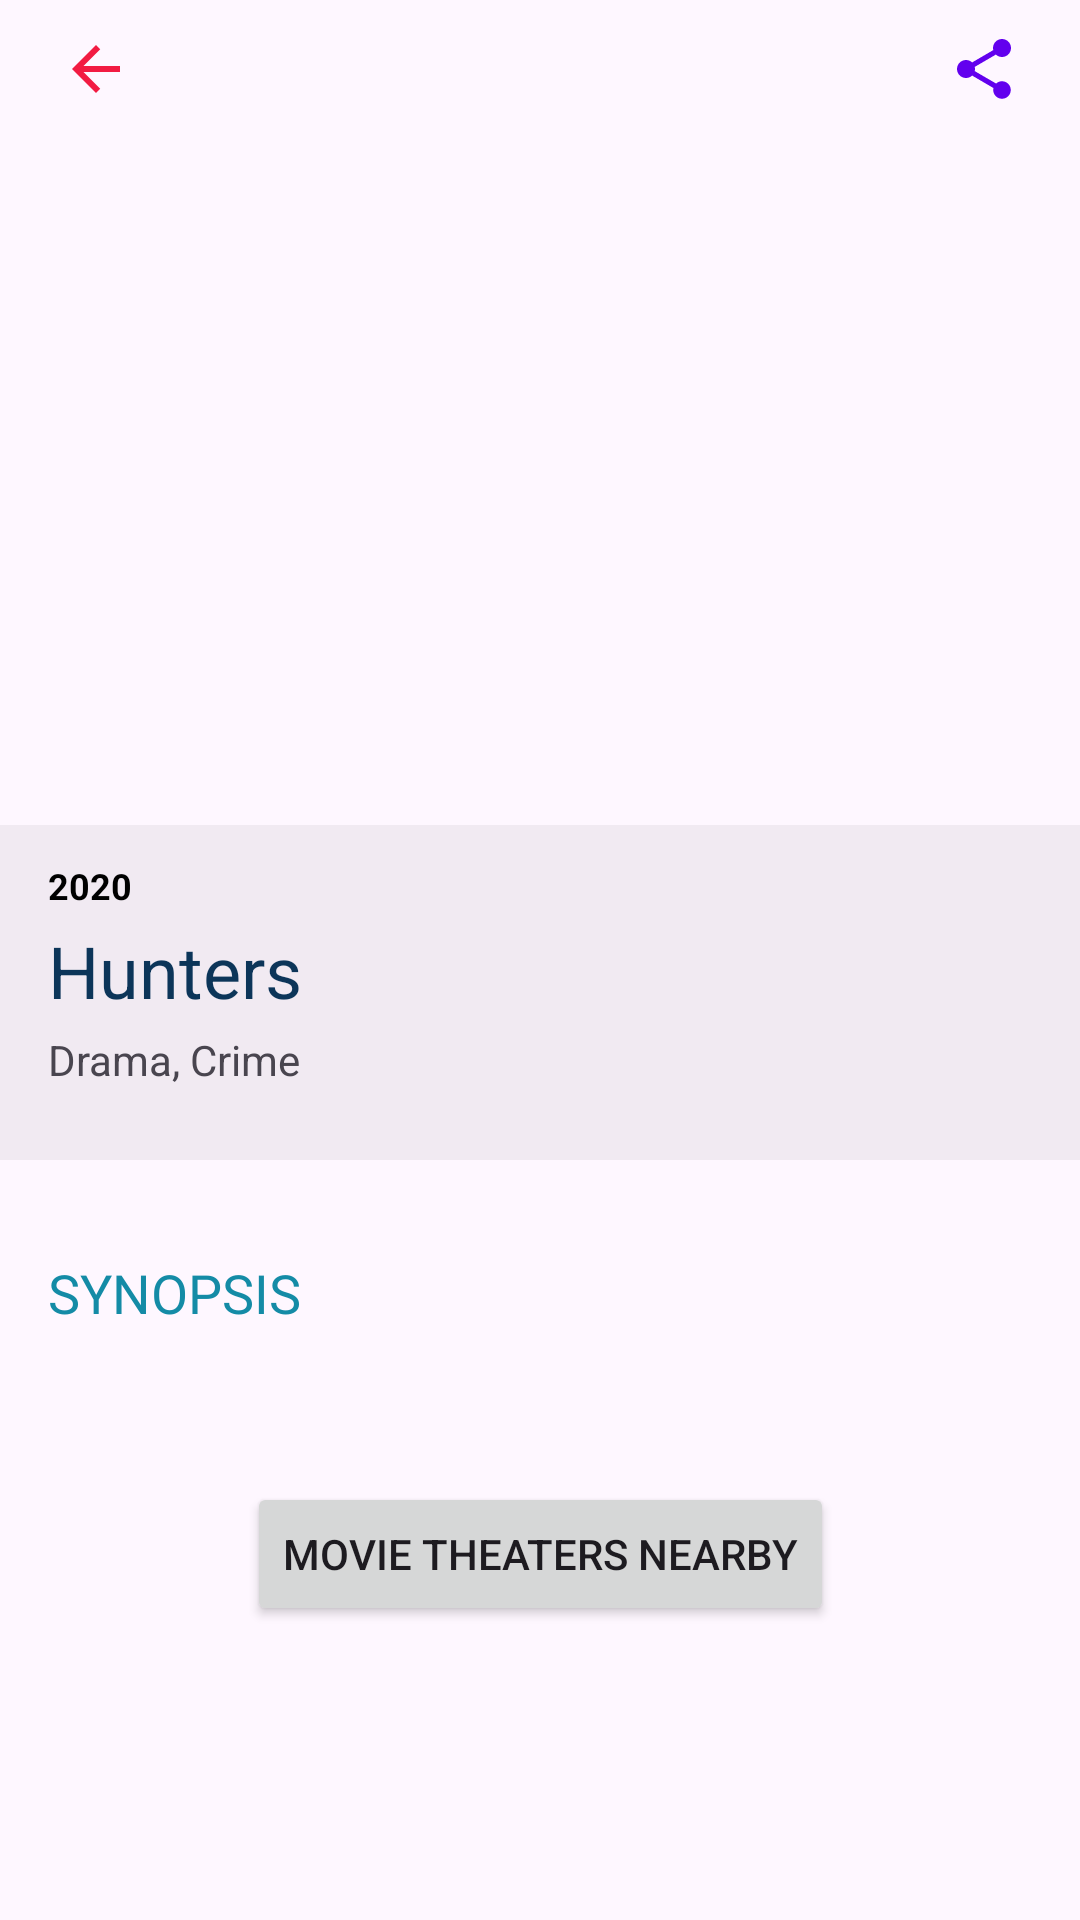

Where to tap for icons on this 1080×1920 app screen, as (x,y):
arrow back: (96,69)
share: (984,69)
